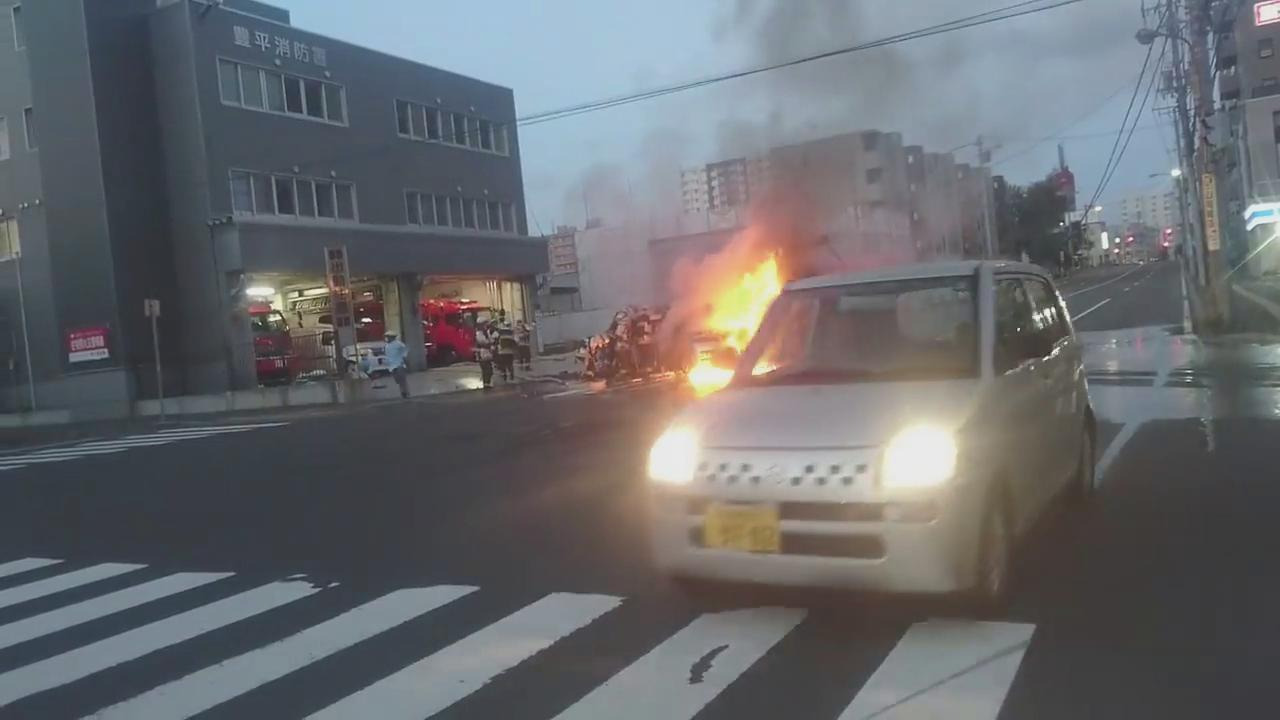Fire: (694, 253, 779, 354), (687, 361, 739, 397), (752, 360, 777, 378)
